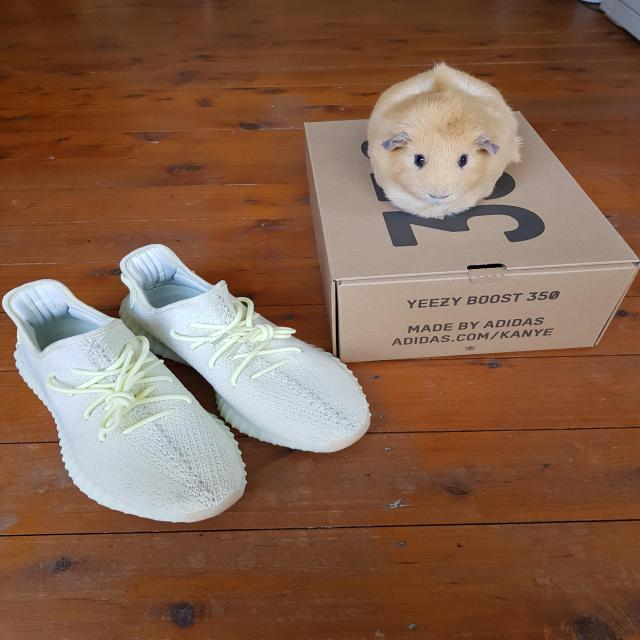shoe: (1, 278, 251, 525), (116, 245, 374, 453)
